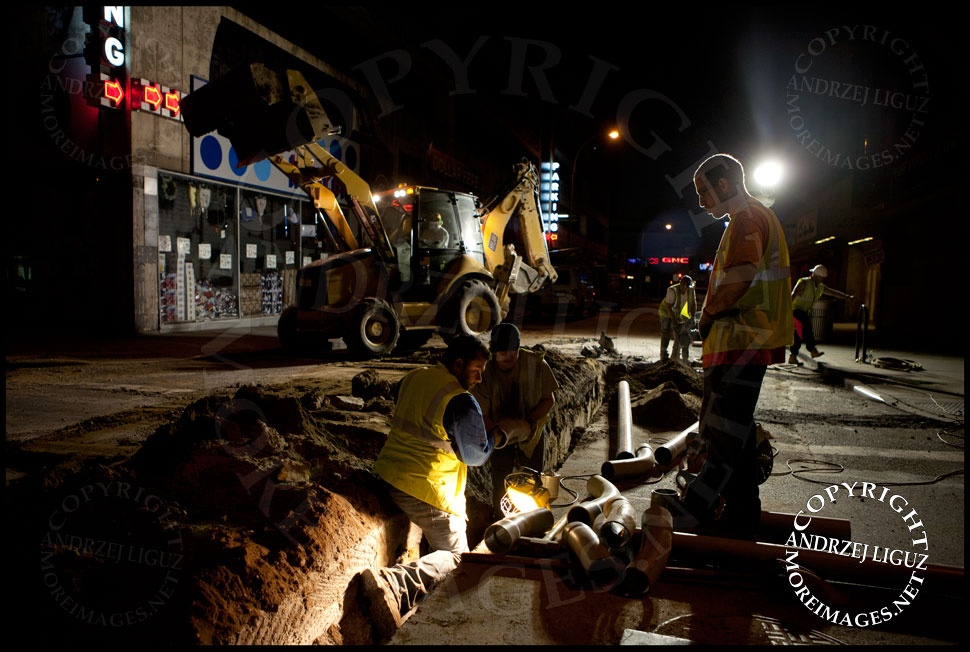none: (693, 152, 748, 220), (440, 331, 489, 388), (488, 320, 525, 372), (676, 272, 693, 294)
white: (810, 266, 826, 284)
